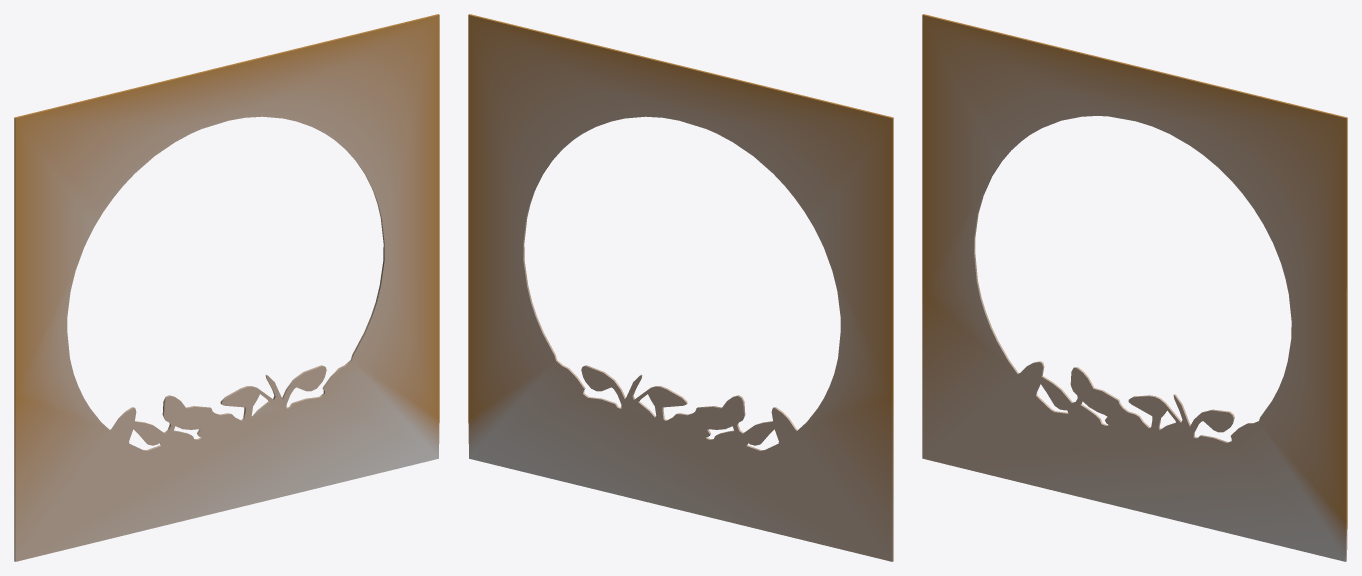
The model's file is fall_1b.fbx.
3 views of the same model, side by side, from view 1: azimuth 30°, elevation 25°; view 2: azimuth 150°, elevation 25°; view 3: azimuth 330°, elevation 25° (orthographic).
Visible parts, largest first — view 1: fall_1b; view 2: fall_1b; view 3: fall_1b.
Part boxes in pixels (box(x1,y1,x2,y2)): fall_1b: box(14, 14, 439, 561); fall_1b: box(468, 14, 893, 561); fall_1b: box(922, 14, 1347, 561).
Size of the model in its own units: 198 by 198 by 1.
